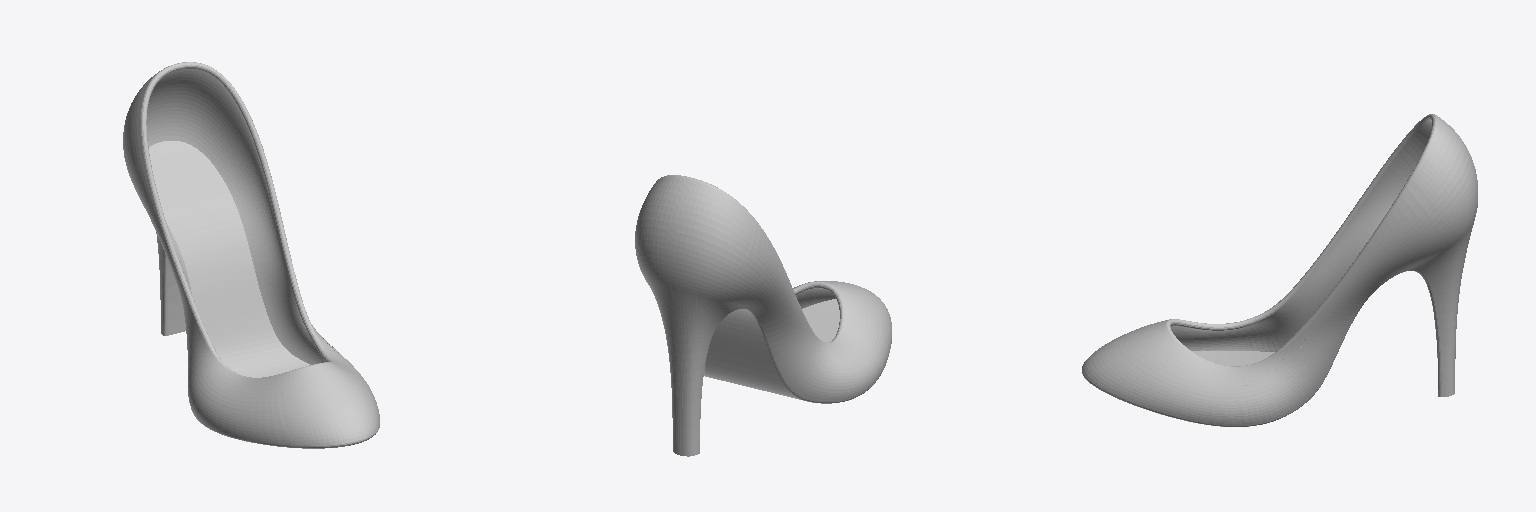
The model's file is highheel.obj.
3 renders of one model, left to right at view 1: azimuth 30°, elevation 25°; view 2: azimuth 150°, elevation 25°; view 3: azimuth 270°, elevation 25°, orthographic.
Visible parts, largest first — view 1: HIGH_HEEL_SHOE_body1; view 2: HIGH_HEEL_SHOE_body1; view 3: HIGH_HEEL_SHOE_body1.
Part boxes in pixels (bbox=[...]): HIGH_HEEL_SHOE_body1: bbox=[123, 62, 379, 448]; HIGH_HEEL_SHOE_body1: bbox=[635, 175, 891, 456]; HIGH_HEEL_SHOE_body1: bbox=[1082, 114, 1477, 426].
Bounding box in the file's own units: 2.84 × 4.77 × 6.34.